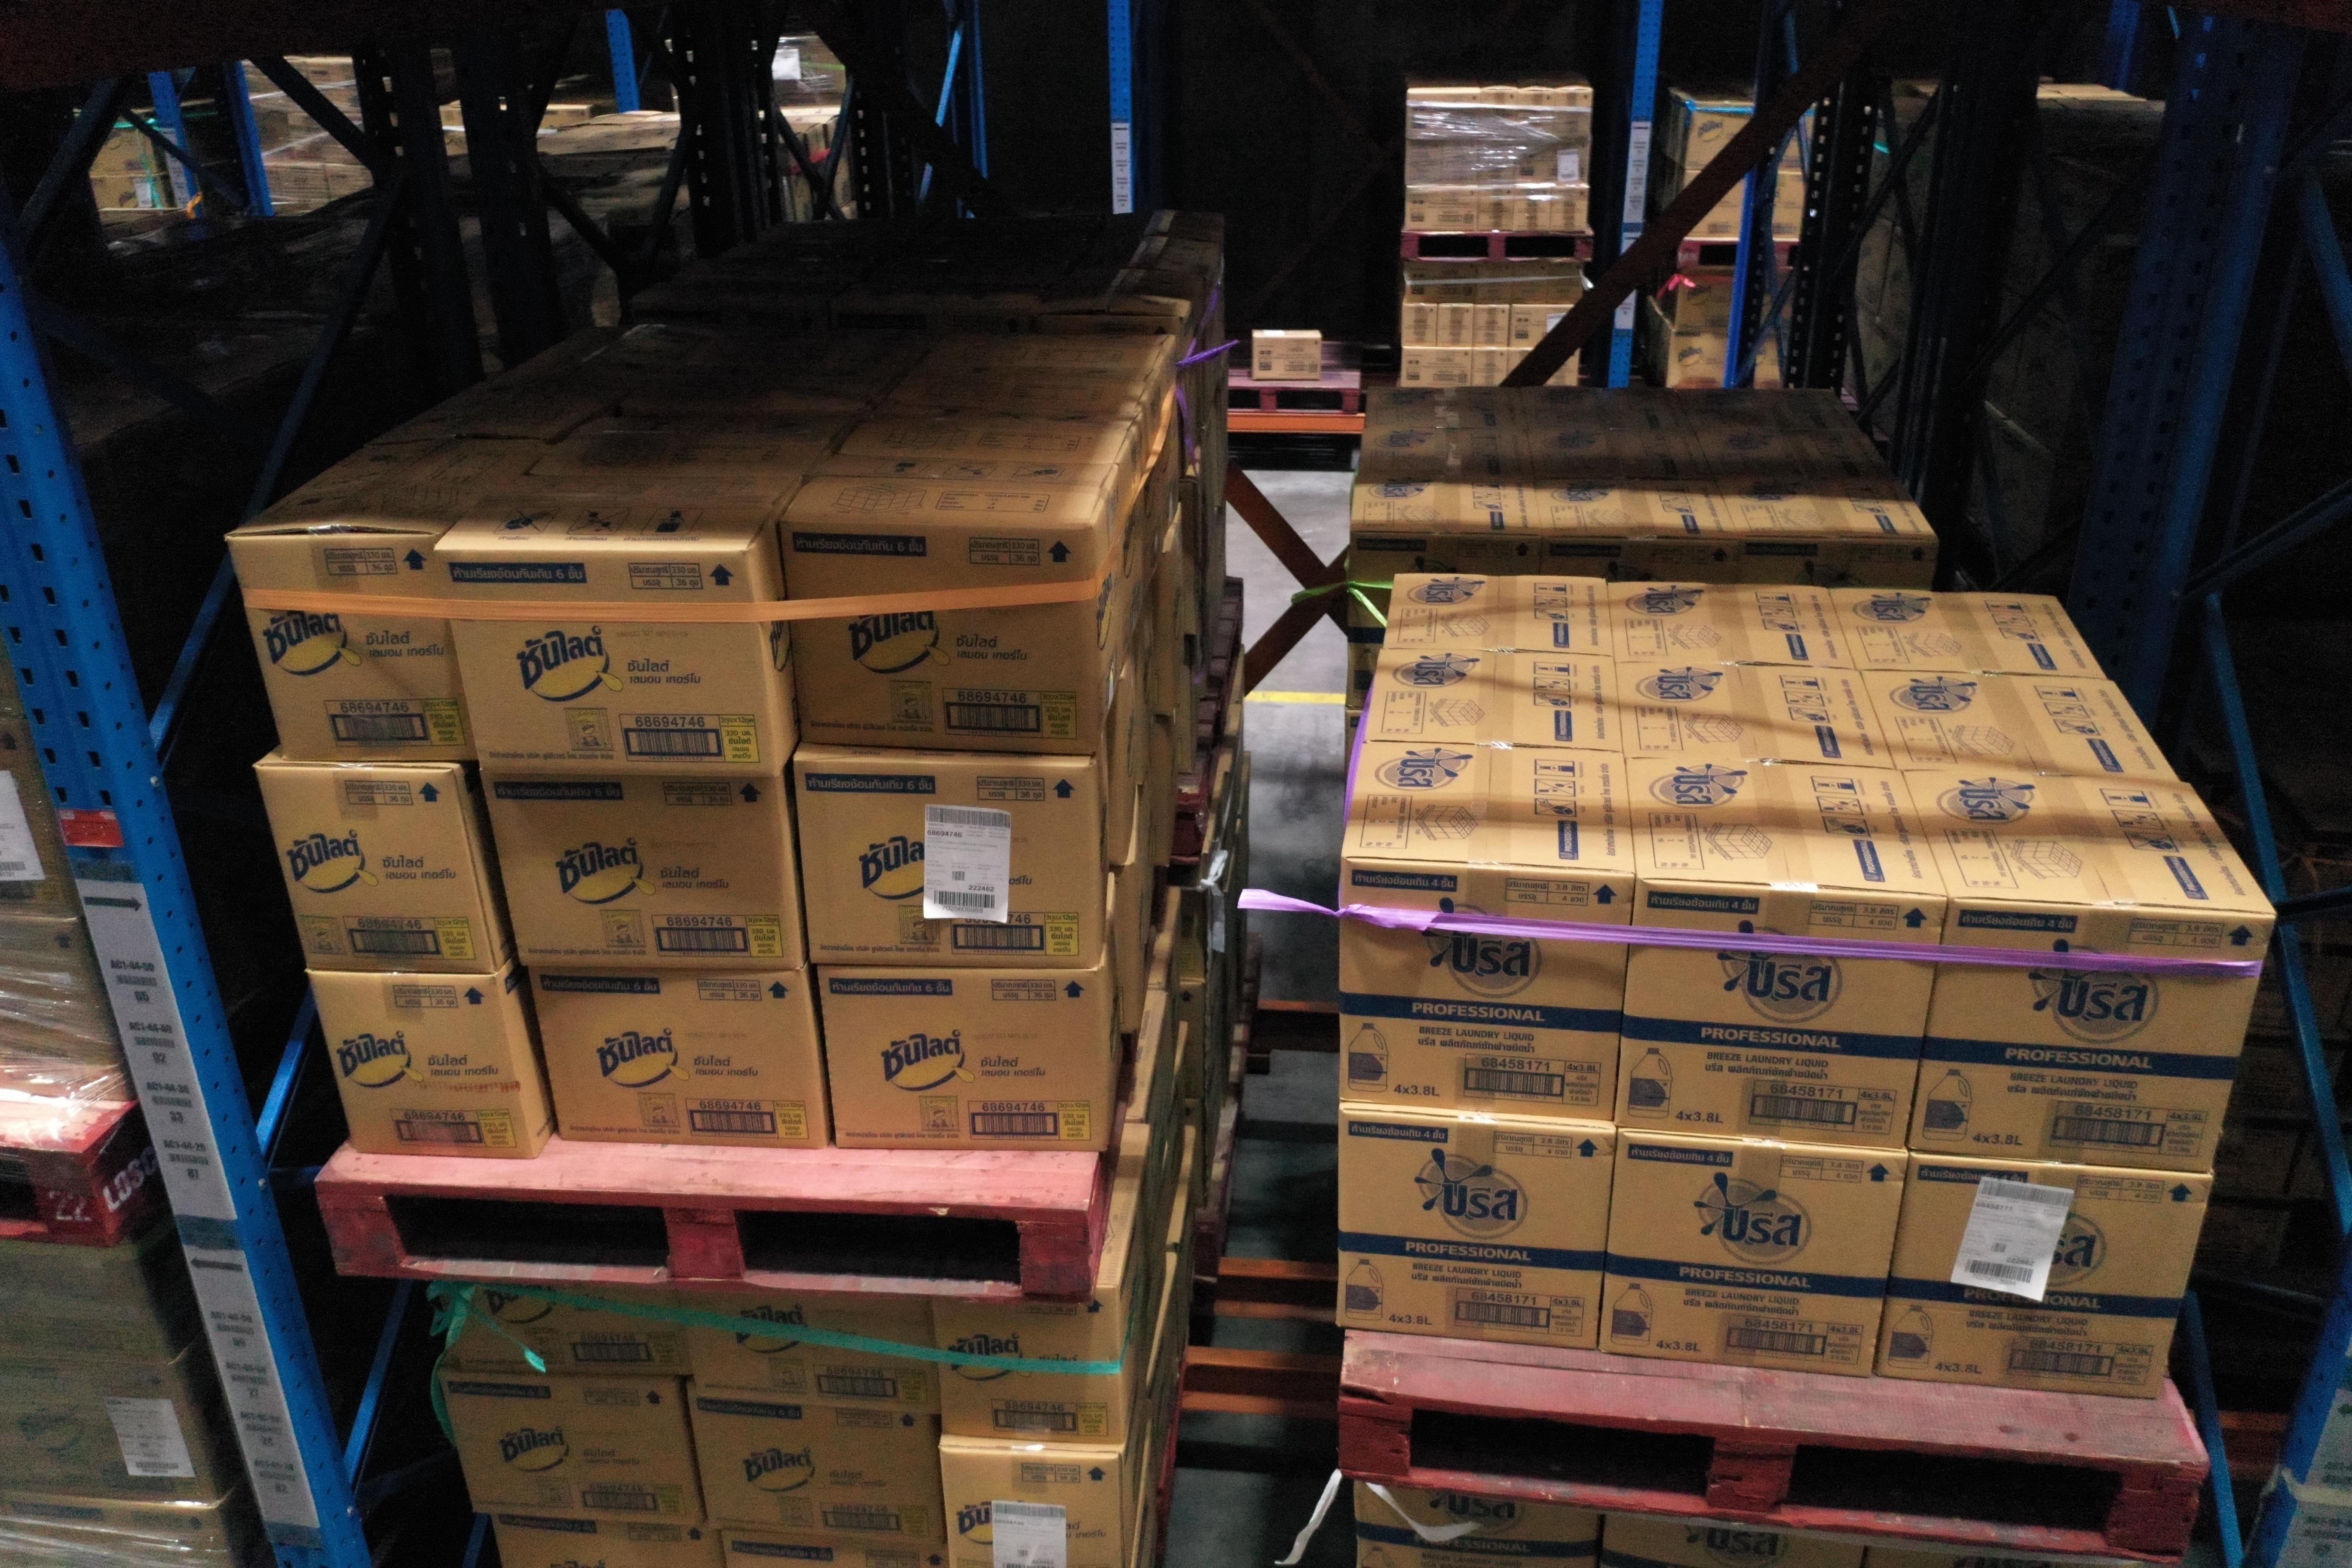-: (1907, 896, 2275, 1174), (1615, 877, 1946, 1151), (1878, 1153, 2214, 1403), (1339, 857, 1638, 1125), (432, 546, 780, 775), (1596, 1129, 1909, 1381), (780, 513, 1095, 759), (1337, 1108, 1620, 1356), (474, 770, 801, 969), (798, 756, 1101, 971), (227, 532, 478, 761), (527, 962, 826, 1151), (821, 961, 1102, 1151), (252, 763, 499, 975), (684, 1384, 945, 1559), (308, 971, 539, 1158), (439, 1374, 709, 1531), (674, 1291, 938, 1421), (0, 1351, 219, 1507), (936, 1290, 1129, 1444), (436, 1283, 695, 1381), (940, 1444, 1122, 1568), (1353, 1479, 1605, 1568), (0, 1241, 173, 1365), (0, 917, 121, 1073), (0, 1494, 236, 1568), (1594, 1508, 1869, 1568), (490, 1508, 726, 1568)
